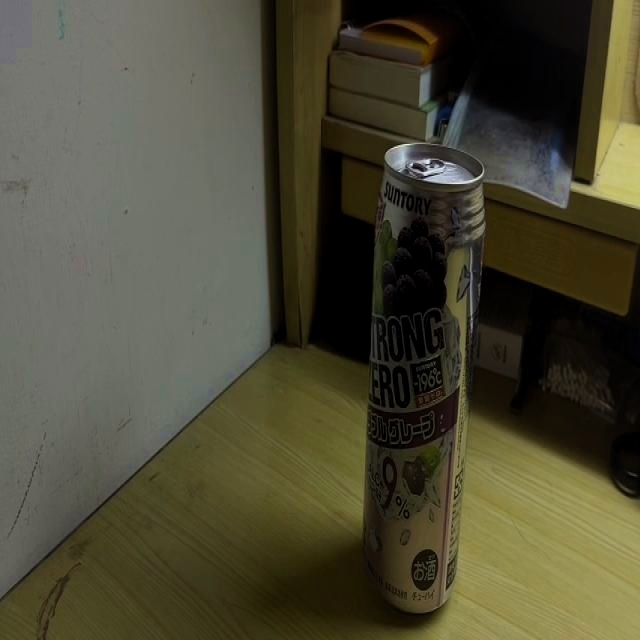Liquor: (361, 141, 485, 611)
